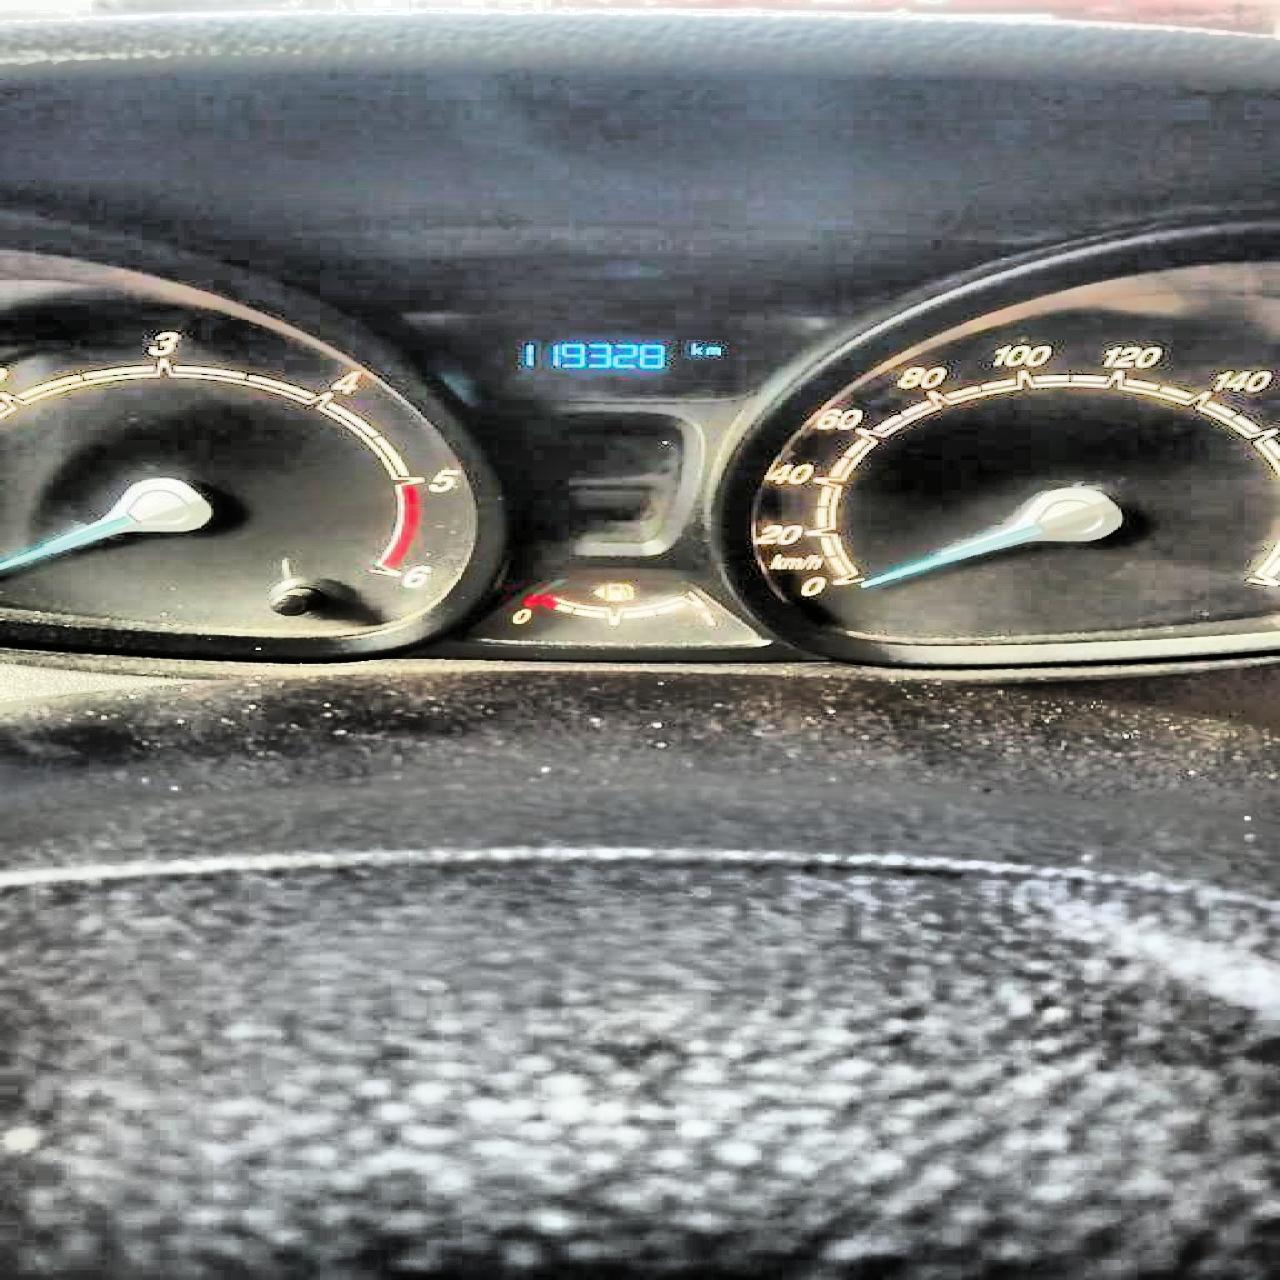1: (516, 340, 538, 366), (540, 341, 558, 367)
2: (611, 341, 635, 369)
3: (585, 341, 611, 369)
8: (638, 341, 665, 369)
9: (558, 340, 584, 368)
X: (687, 340, 702, 355), (702, 345, 720, 356)
odometer: (404, 315, 789, 404)
